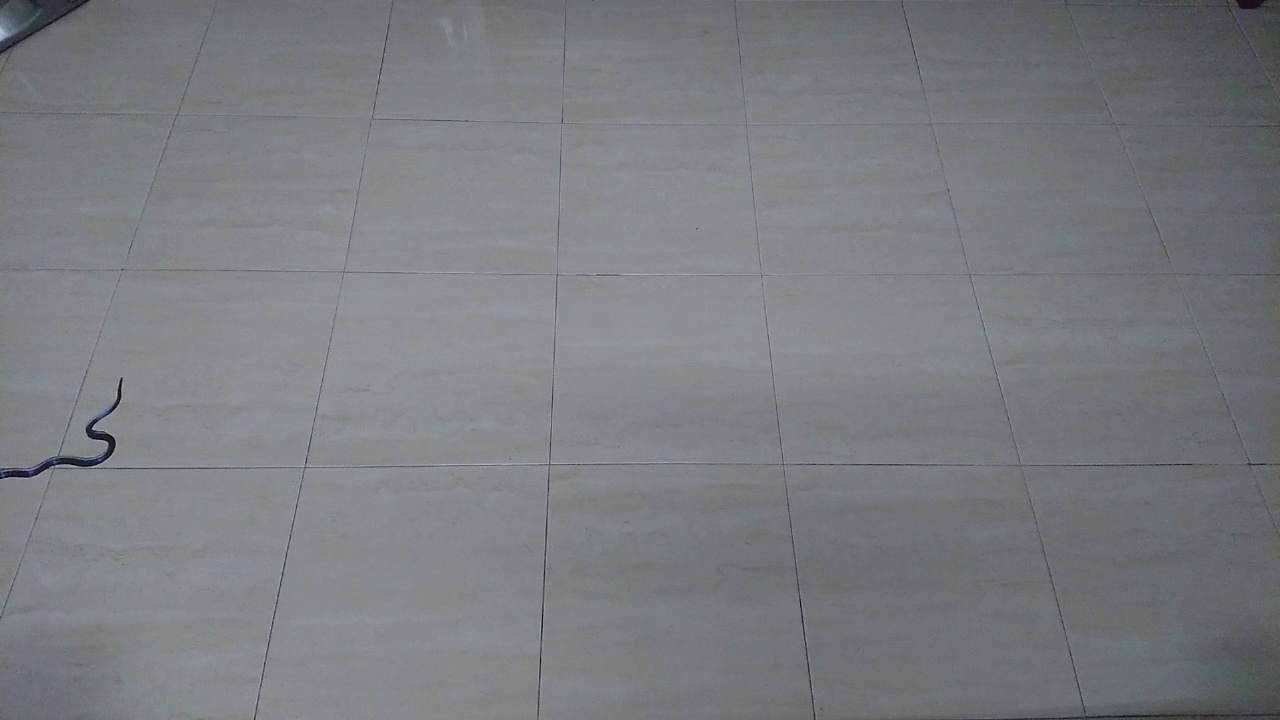snake: (1, 357, 144, 496)
